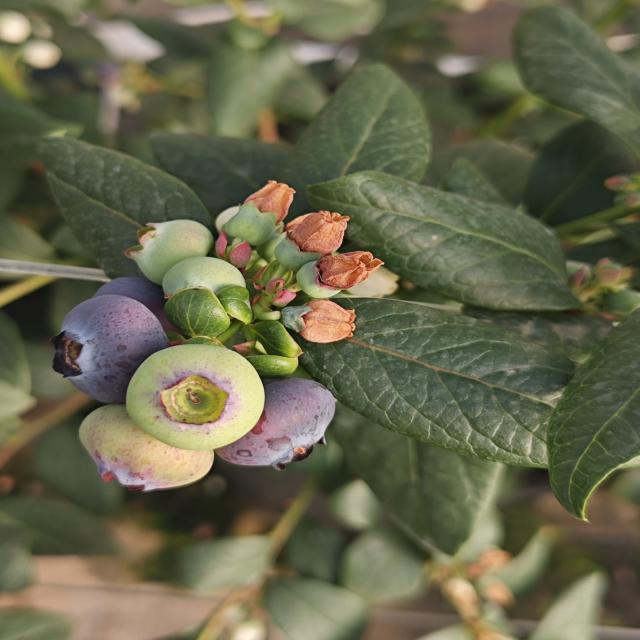ripe: (48, 293, 170, 405), (213, 376, 338, 473)
